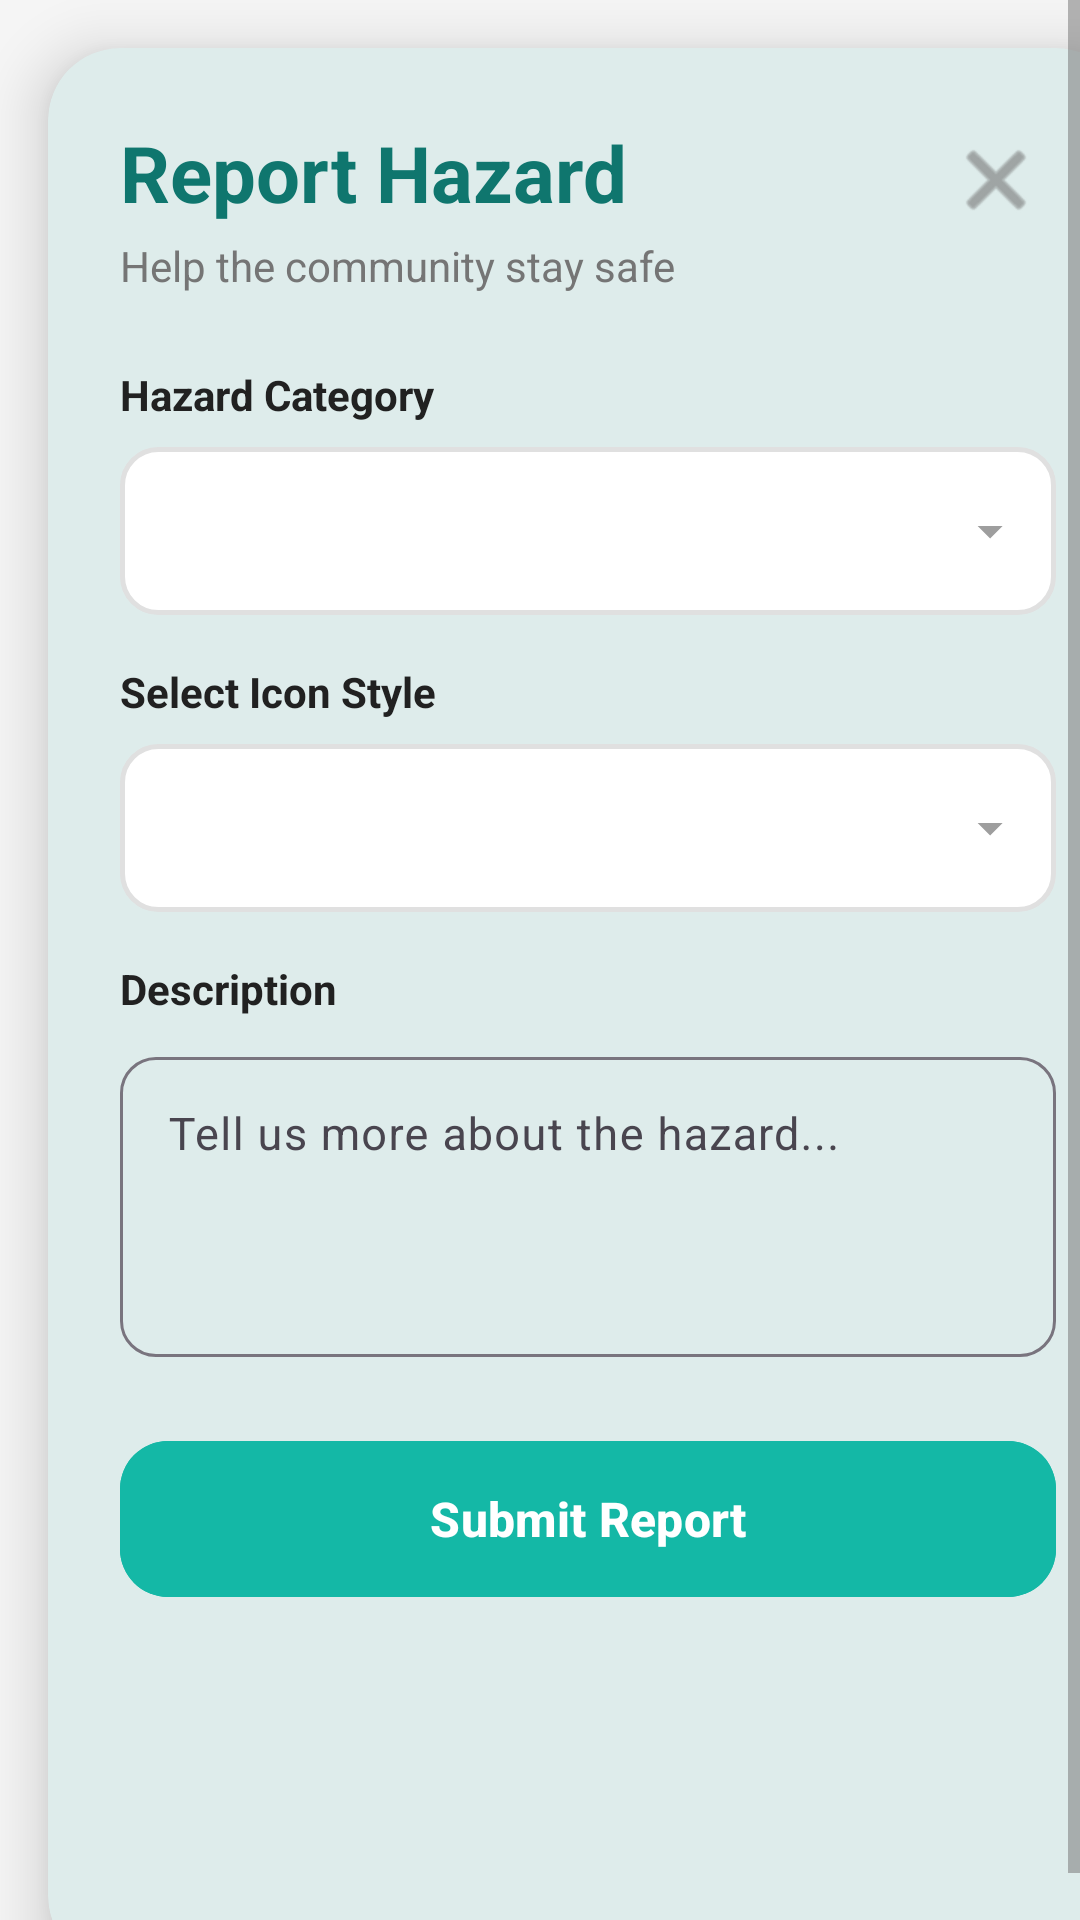

Locate icon controls on the screen. Image size 1080px×1920px, boxes as [left=x1, top=y1, right=x2, bottom=y2].
Close: [left=967, top=151, right=1025, bottom=209]
